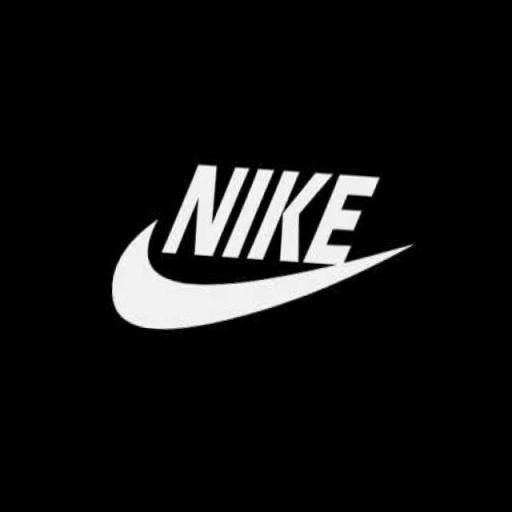Nike: (111, 240, 374, 342), (160, 159, 380, 270)
